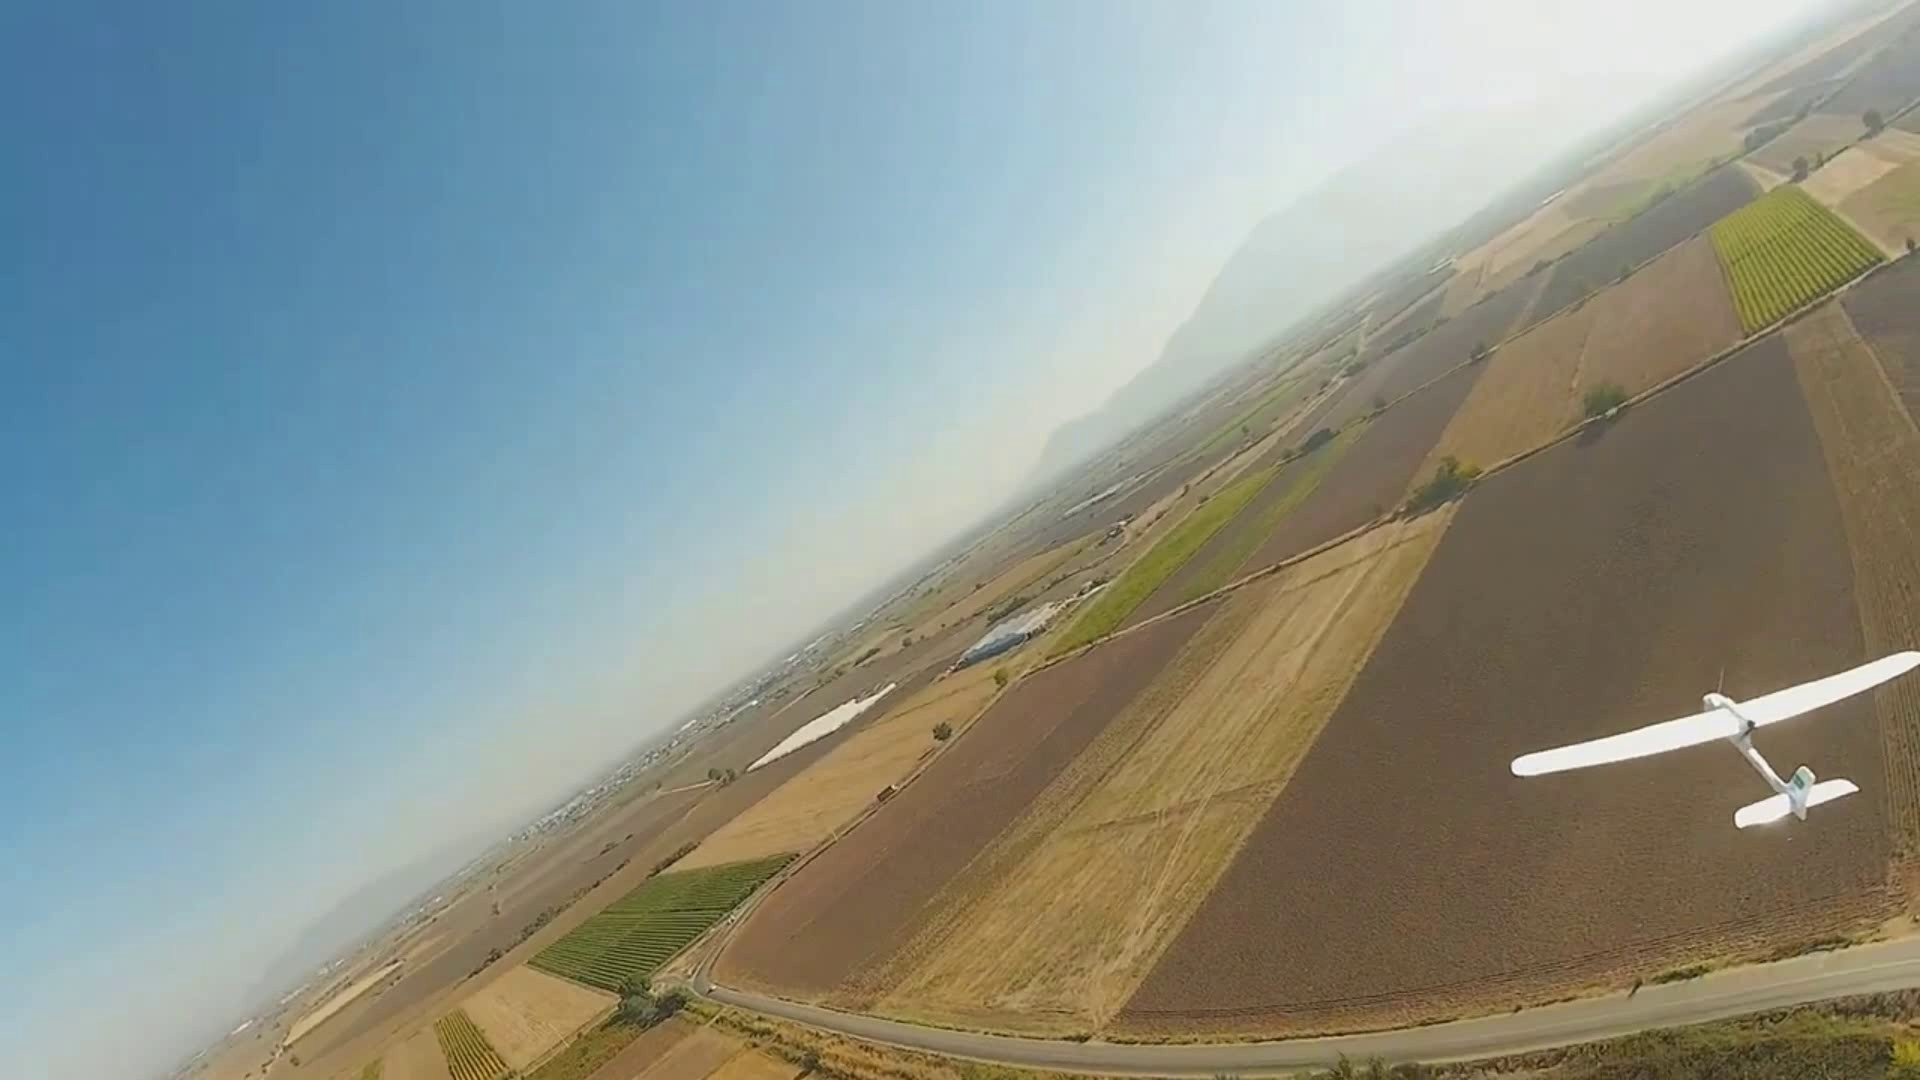airplane: (55, 20, 1919, 1063)
